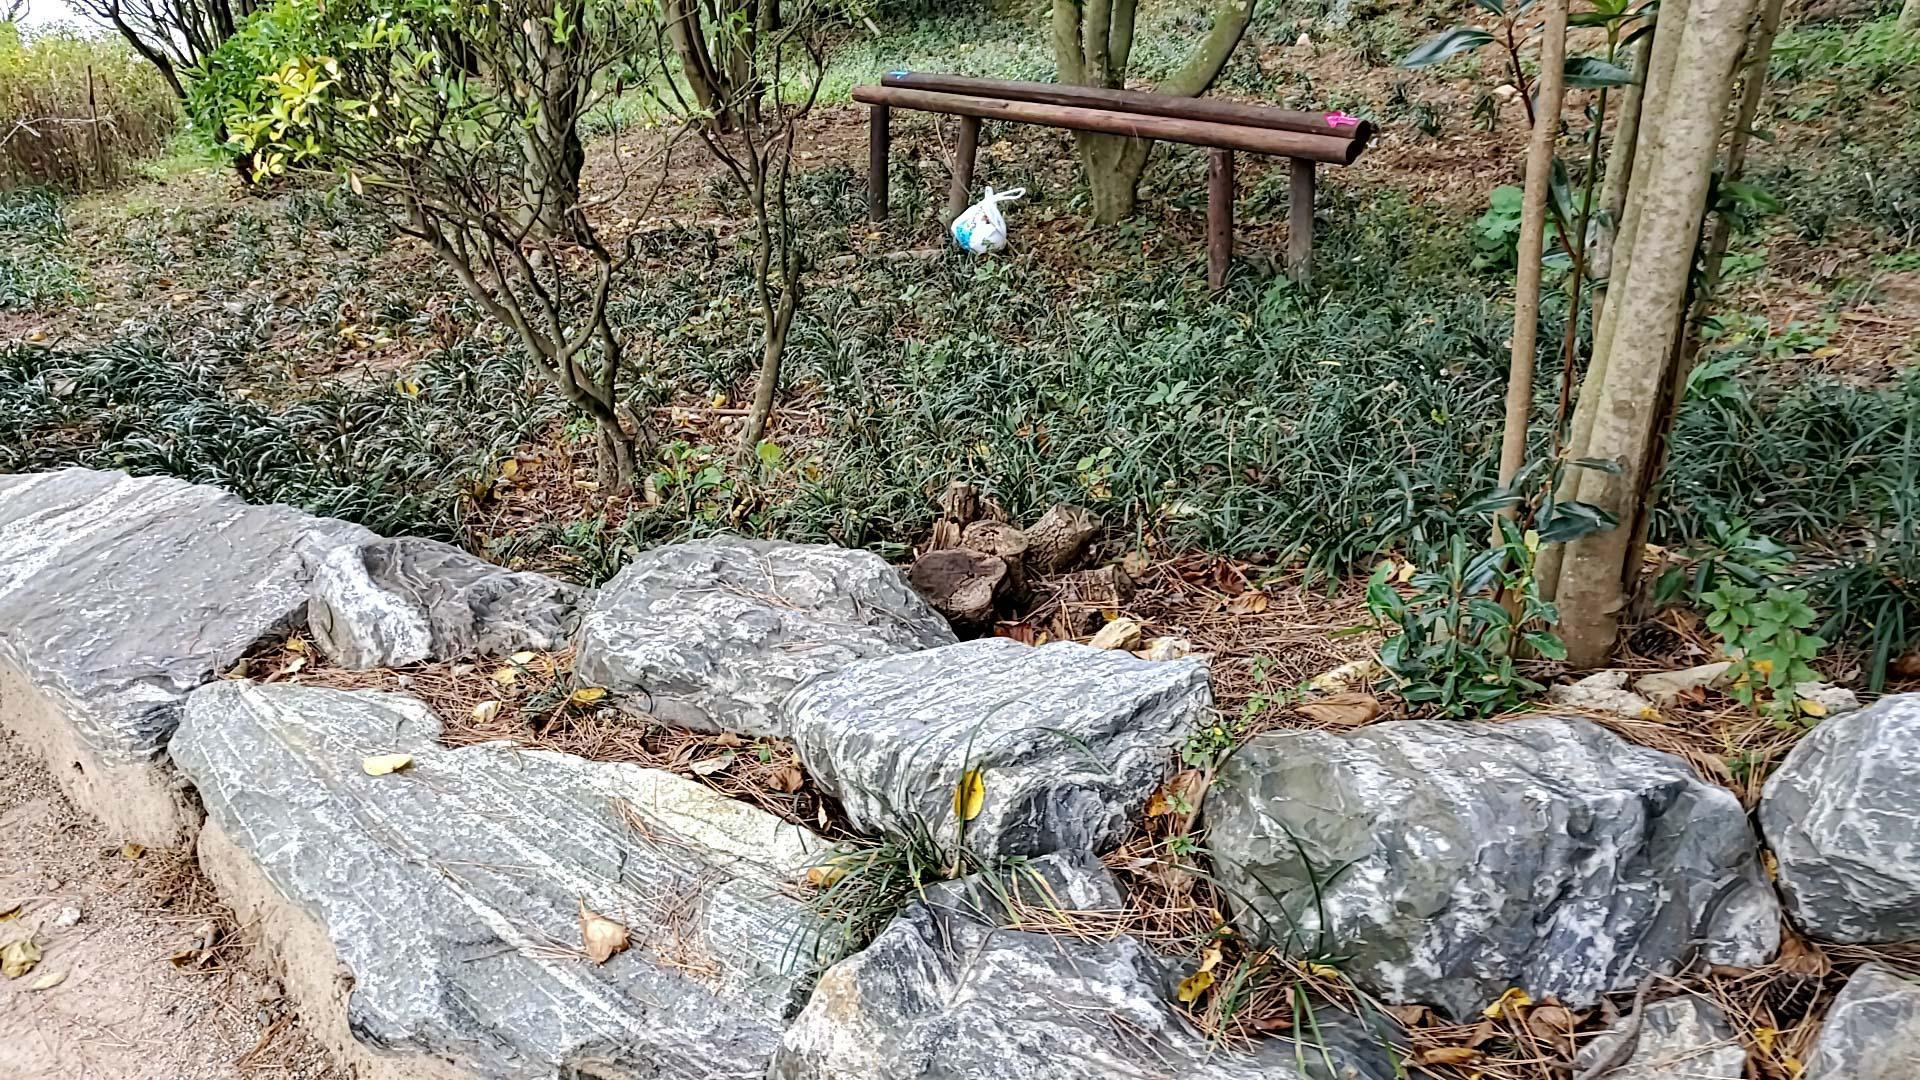white_bag: (943, 181, 1030, 261)
